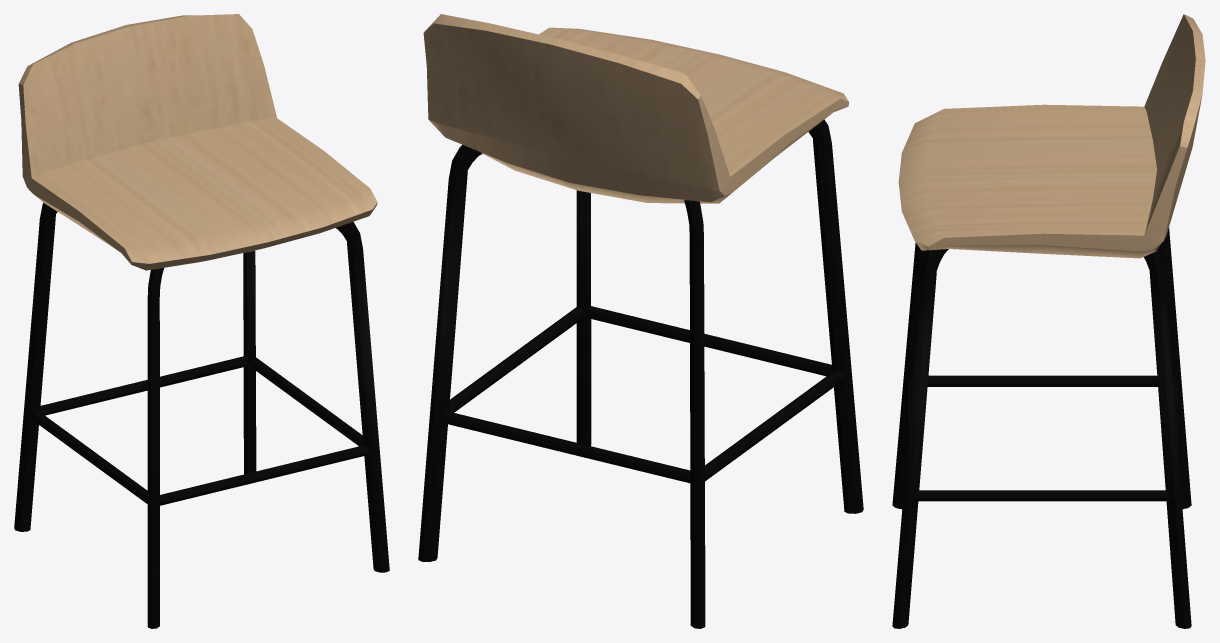
Rendered from high_chair.fbx.
3 renders of one model, left to right at view 1: azimuth 30°, elevation 25°; view 2: azimuth 150°, elevation 25°; view 3: azimuth 270°, elevation 25°, orthographic. The views are drawn at different scales.
Visible parts, largest first — view 1: pCylinder5; view 2: pCylinder5; view 3: pCylinder5.
Boxes of the visible parts, x1,y1,x2,y2 form: pCylinder5: [14, 14, 389, 628]; pCylinder5: [418, 14, 863, 628]; pCylinder5: [892, 14, 1205, 628].
Size of the model in its own units: 0.3108 by 0.5696 by 0.3189.
Materials: 1 (1 with a texture image).
